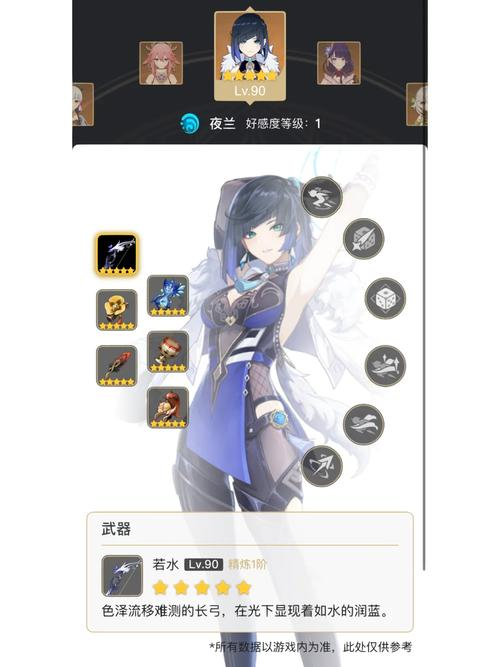夜兰: (184, 170, 345, 515), (218, 14, 281, 85)
